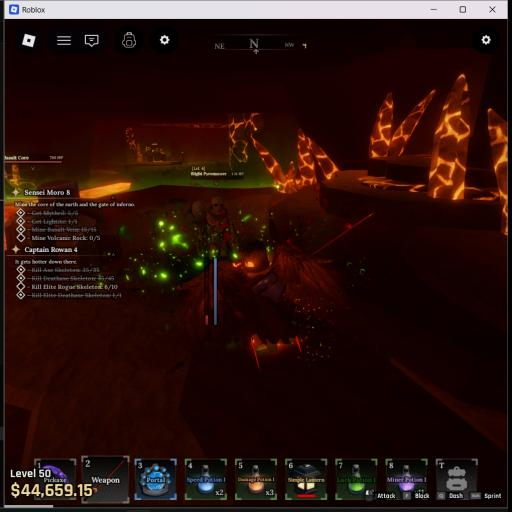player: (219, 239, 346, 346), (181, 278, 201, 323)
rock: (5, 181, 121, 277)
